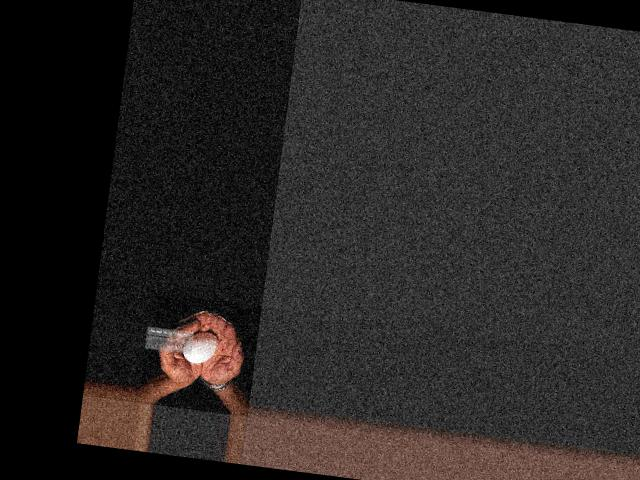egg: (182, 329, 219, 365)
